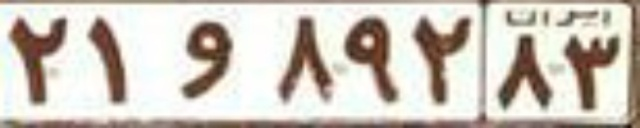1: (84, 14, 128, 103)
2: (412, 12, 471, 103), (8, 15, 68, 104)
3: (561, 32, 621, 111)
8: (274, 14, 332, 103), (492, 32, 554, 110)
9: (339, 14, 398, 102)
vav: (176, 20, 231, 98)
